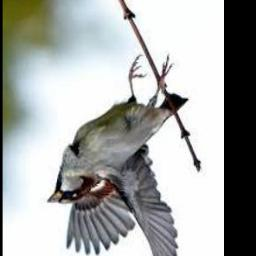Sparrow: (47, 56, 188, 256)
